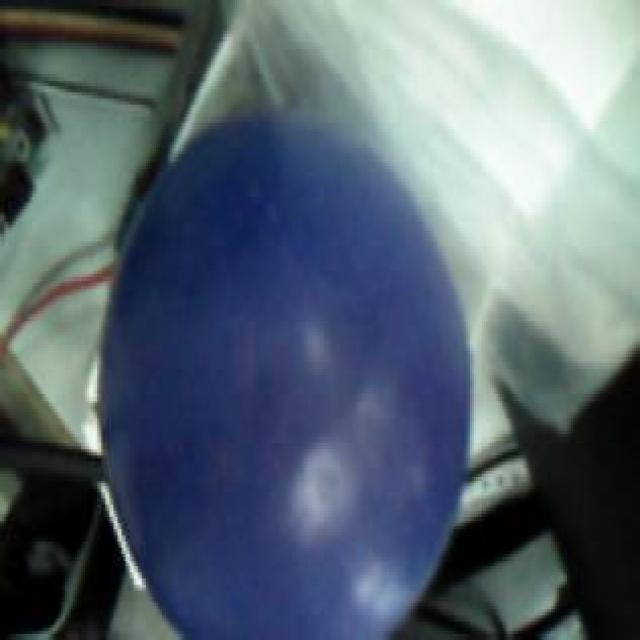BallPurple: (99, 111, 472, 640)
